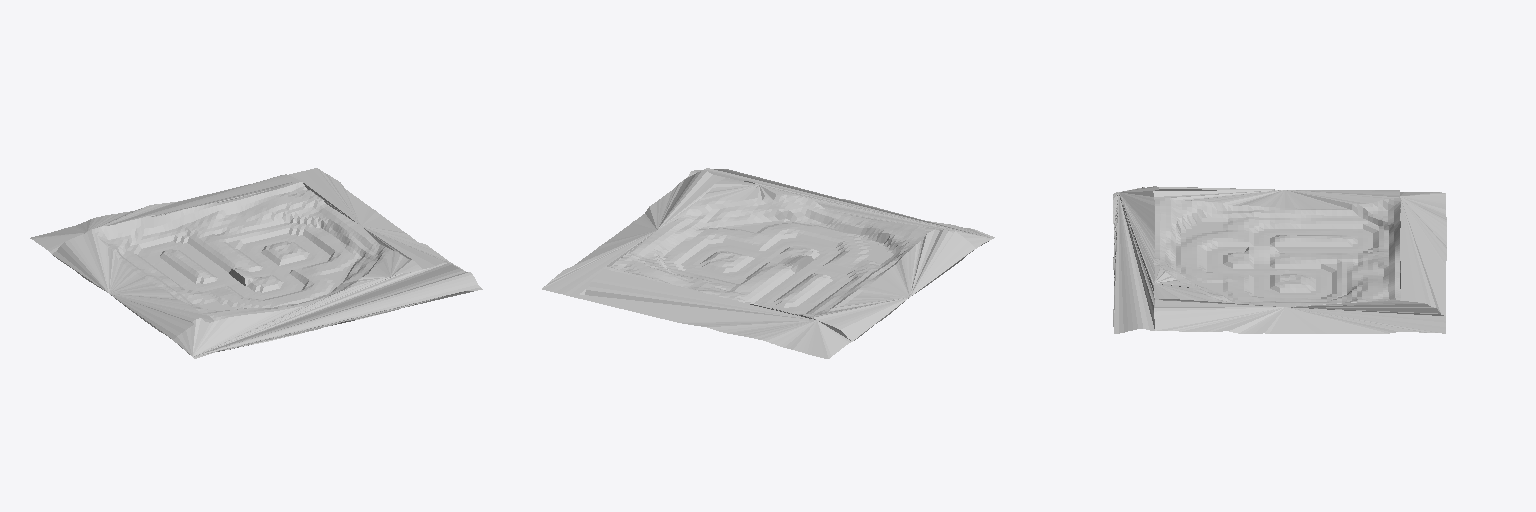
Rendered from forest_track.obj.
3 views of the same model, side by side, from view 1: azimuth 30°, elevation 25°; view 2: azimuth 150°, elevation 25°; view 3: azimuth 270°, elevation 25° (orthographic).
Bounding box in the file's own units: 26.61 × 1.82 × 26.4.